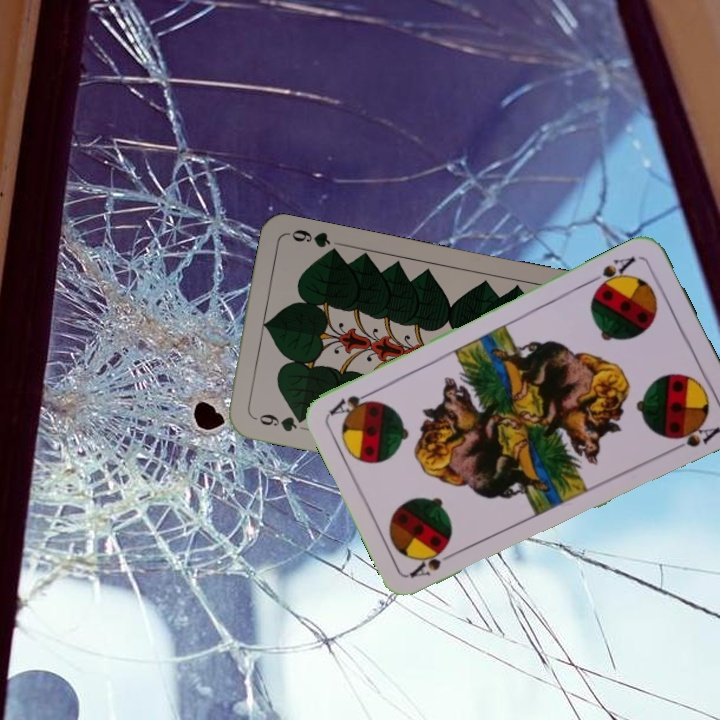G9: (248, 410, 309, 435)
SA: (586, 252, 638, 294), (406, 544, 461, 581)
